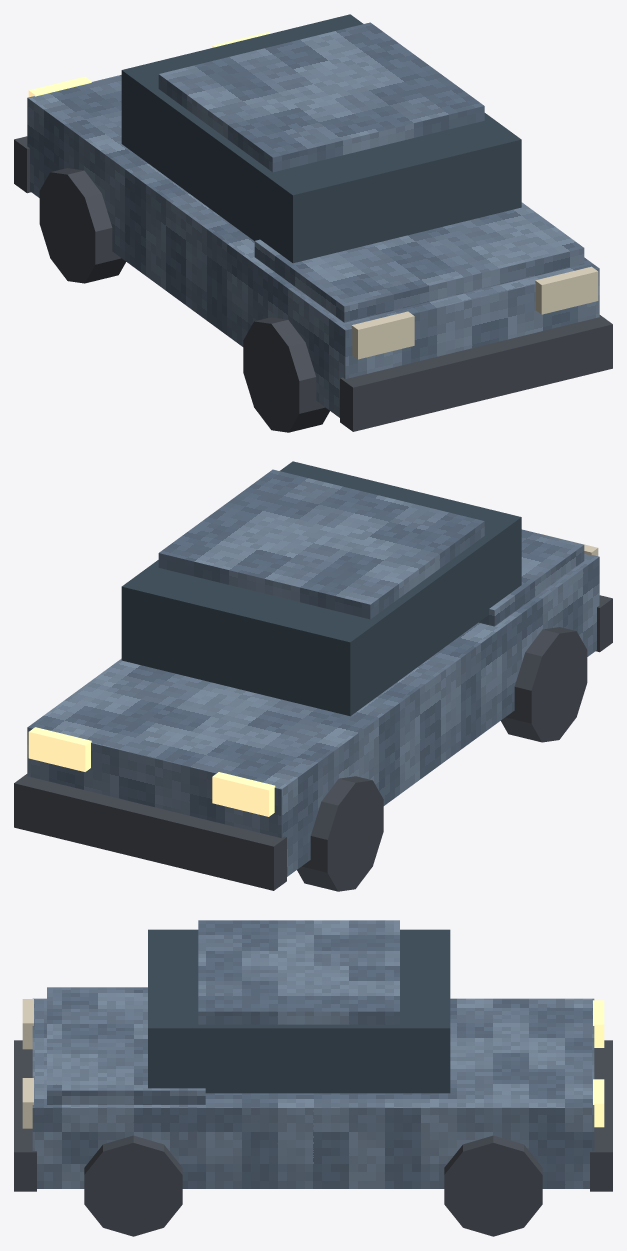
The model's file is ENV_C_CompactCar.fbx.
3 renders of one model, top to bottom at view 1: azimuth 30°, elevation 25°; view 2: azimuth 150°, elevation 25°; view 3: azimuth 270°, elevation 25°, orthographic. The views are drawn at different scales.
Visible parts, largest first — view 1: ENV_C_CompactCar; view 2: ENV_C_CompactCar; view 3: ENV_C_CompactCar.
Part boxes in pixels (x1,y1,x2,y2): ENV_C_CompactCar: [14, 14, 612, 432]; ENV_C_CompactCar: [14, 461, 612, 891]; ENV_C_CompactCar: [14, 920, 612, 1236].
Size of the model in its own units: 204 by 160 by 416.
5 materials, 1 textured.
